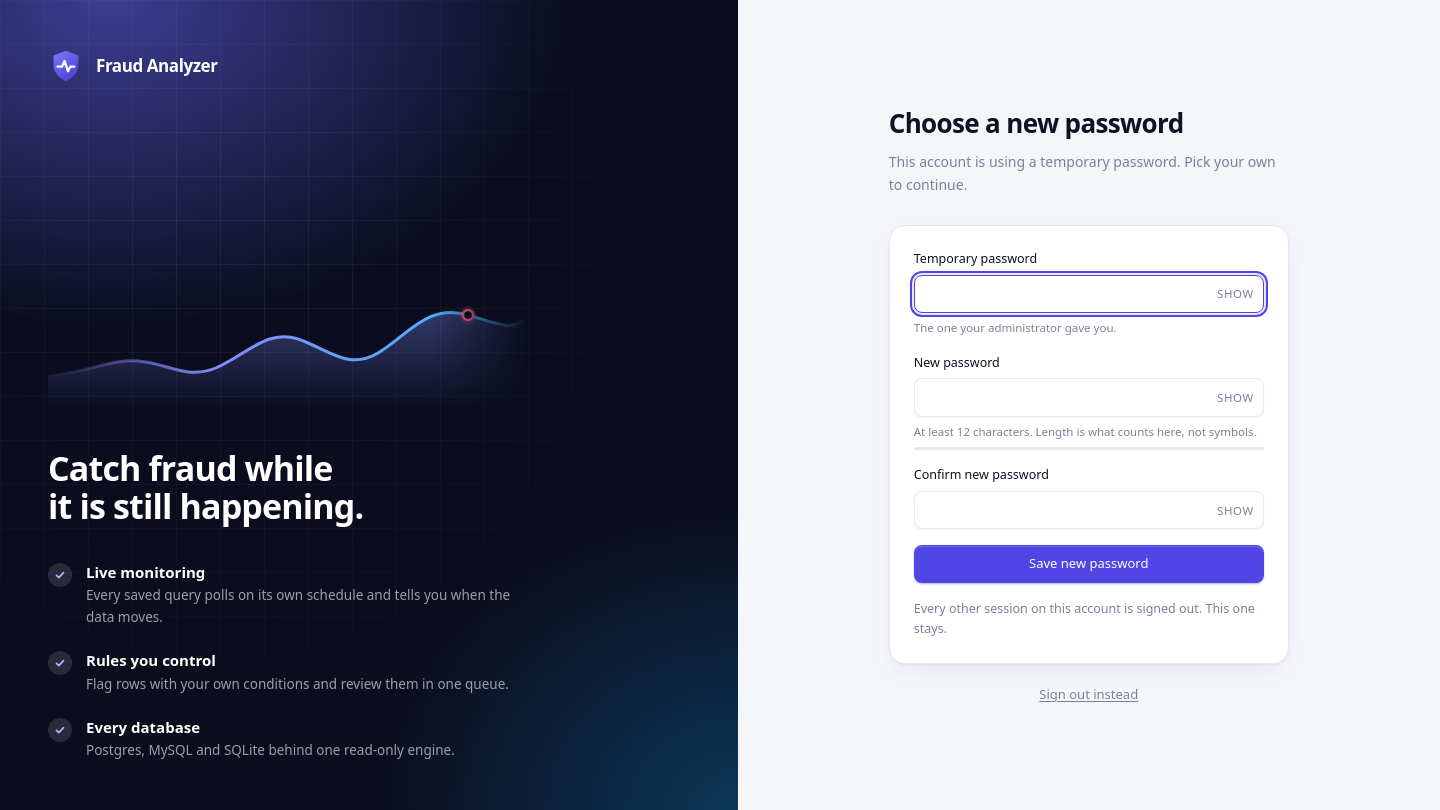
when the engine refuses › shows its sentence and stays put
Type "temp-one" into the password field labelled "Temporary password" at (1089, 294), box [914,275,1264,313]
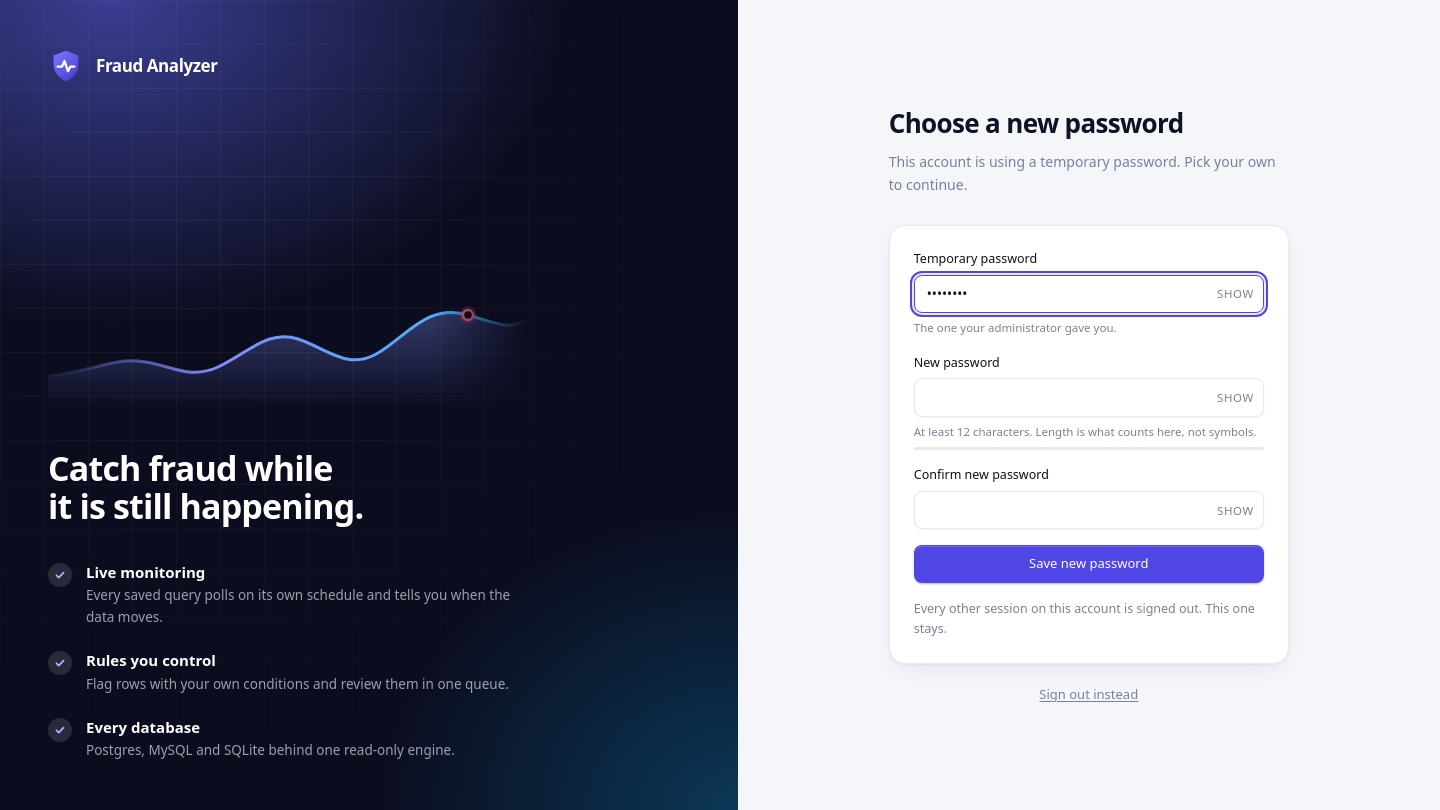
Type "a-perfectly-fine-password" into the password field labelled "New password" at (1089, 398), box [914,378,1264,417]
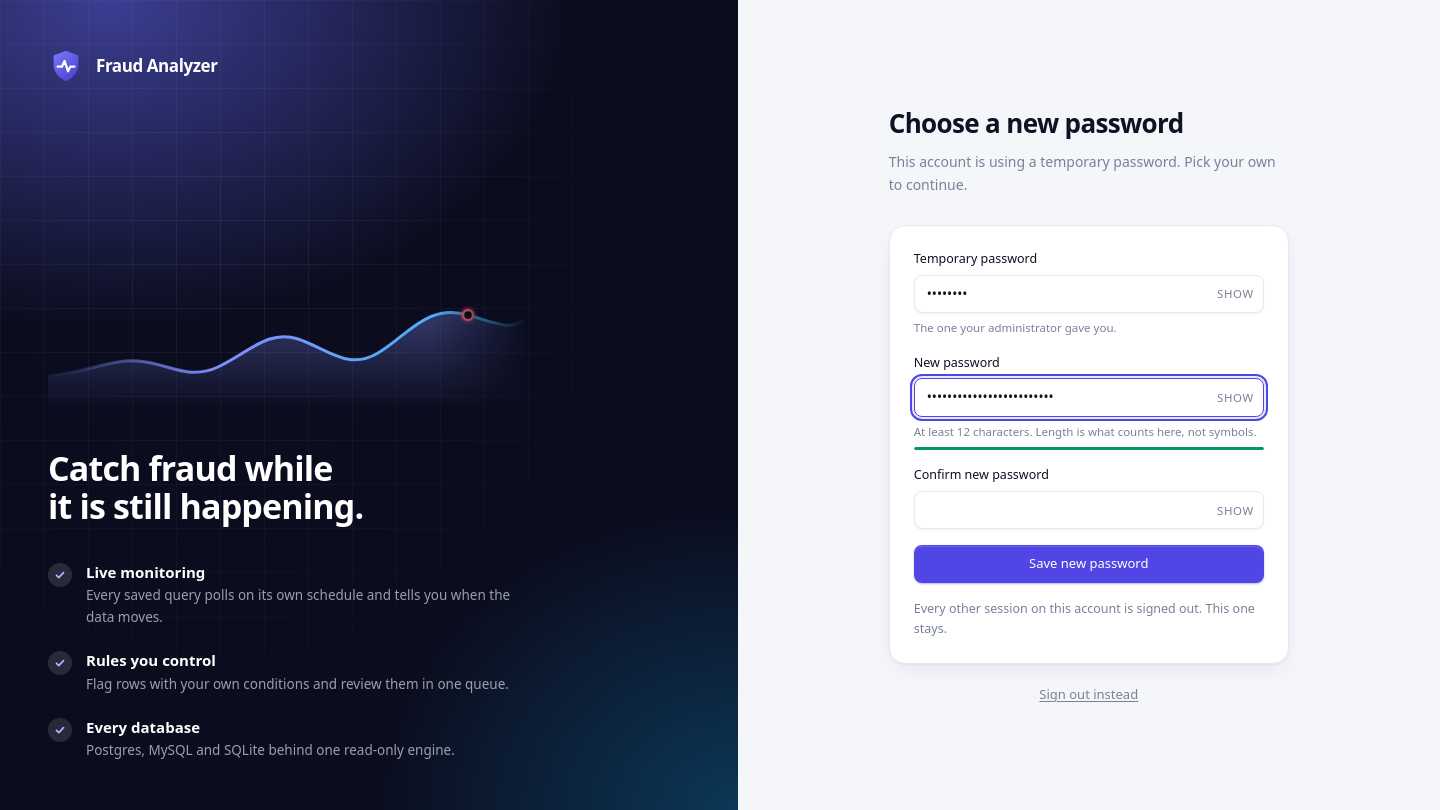
Type "a-perfectly-fine-password" into the password field labelled "Confirm new password" at (1089, 510), box [914,491,1264,529]
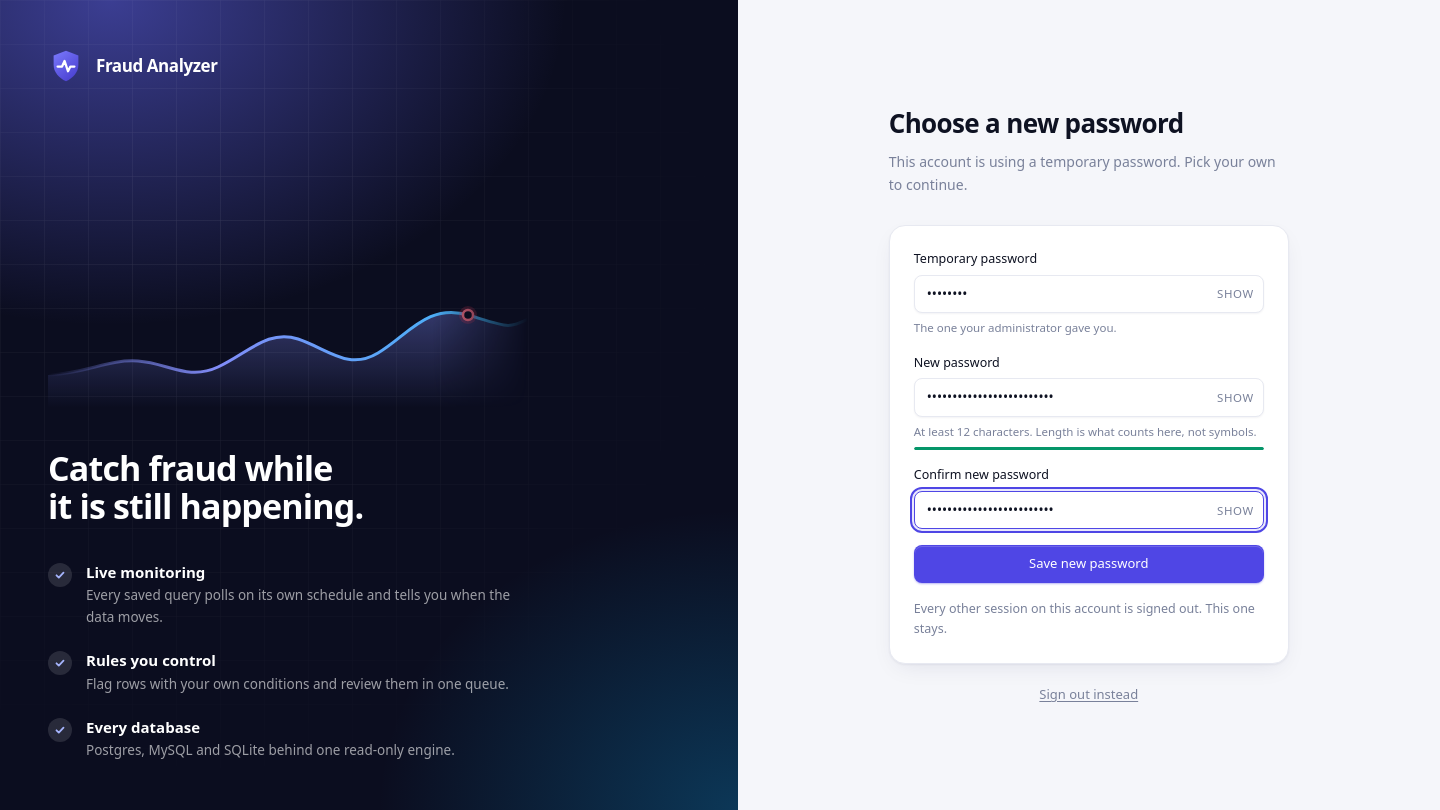
Click the button "Save new password" at (1089, 564), box [914,545,1264,583]
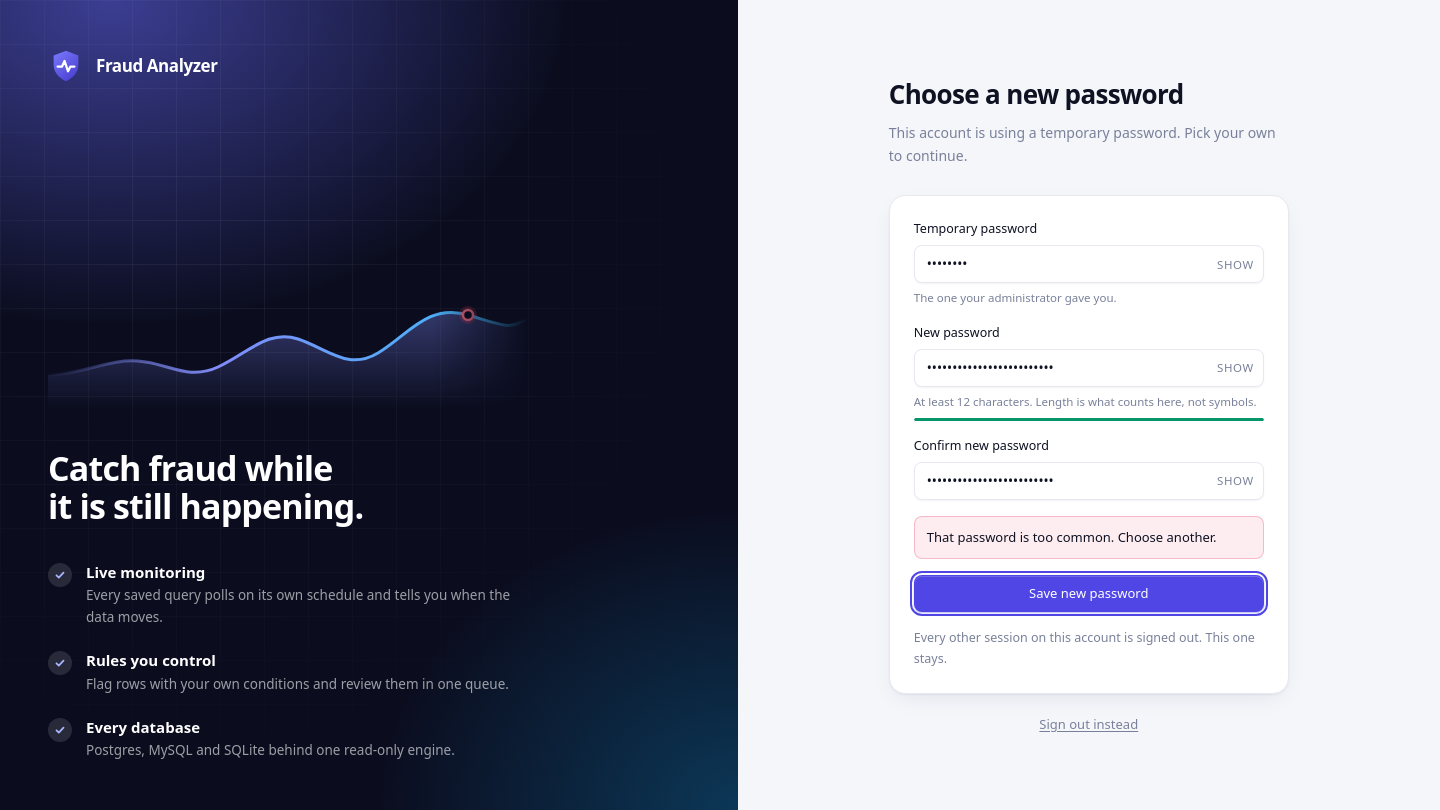
expect the text "That password is too common. Choose another." is shown: met, box [914,516,1264,559]
